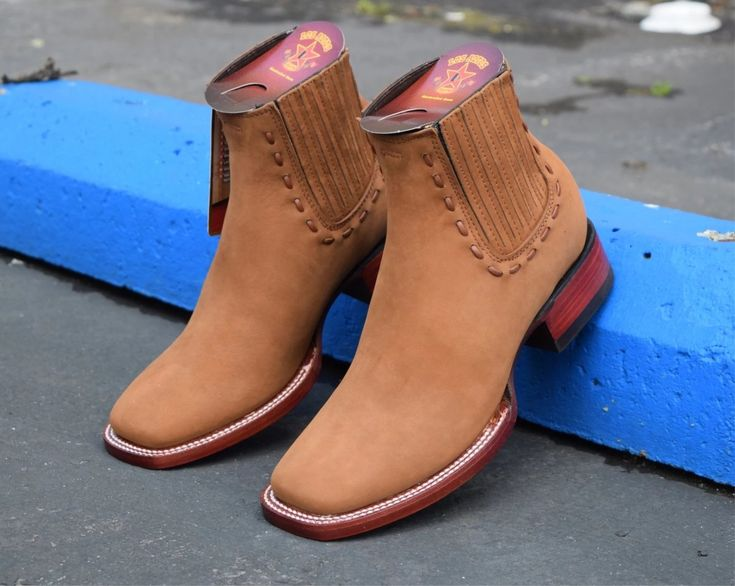gamuza: (110, 52, 588, 516)
